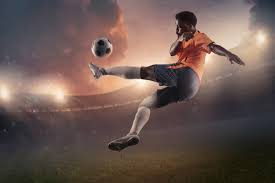football ball: (90, 36, 120, 58)
